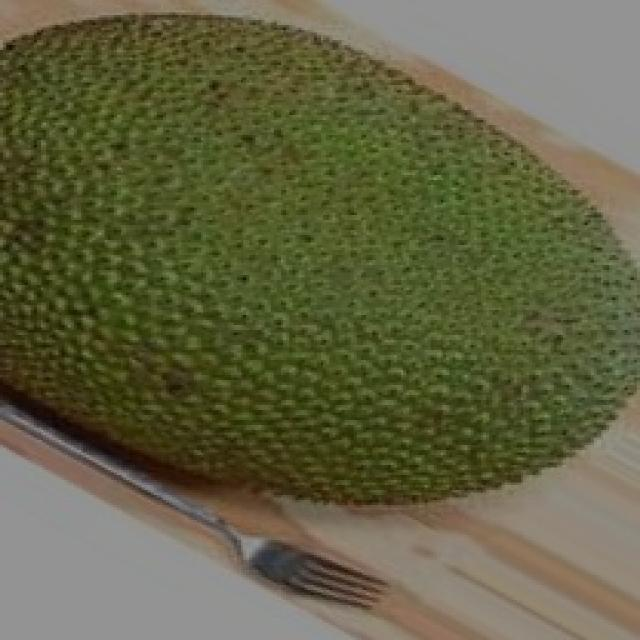Fruit: (0, 0, 403, 410), (267, 2, 640, 315)
